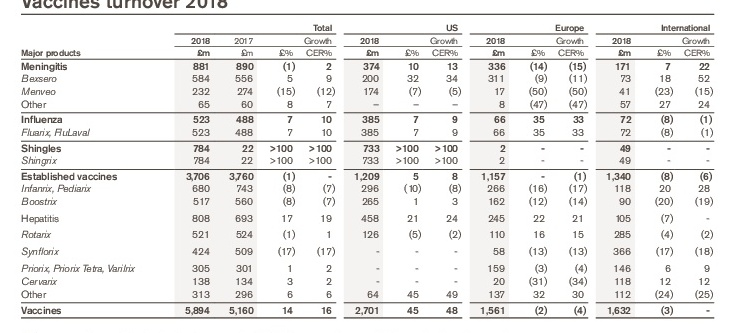table: (0, 0, 739, 333)
